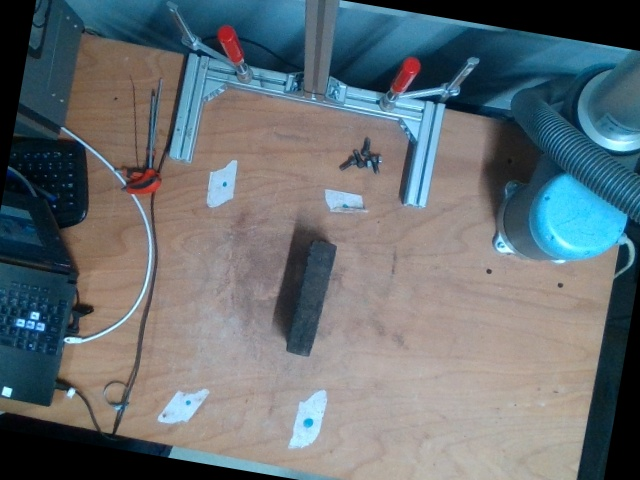brick-side: (284, 241, 337, 355)
